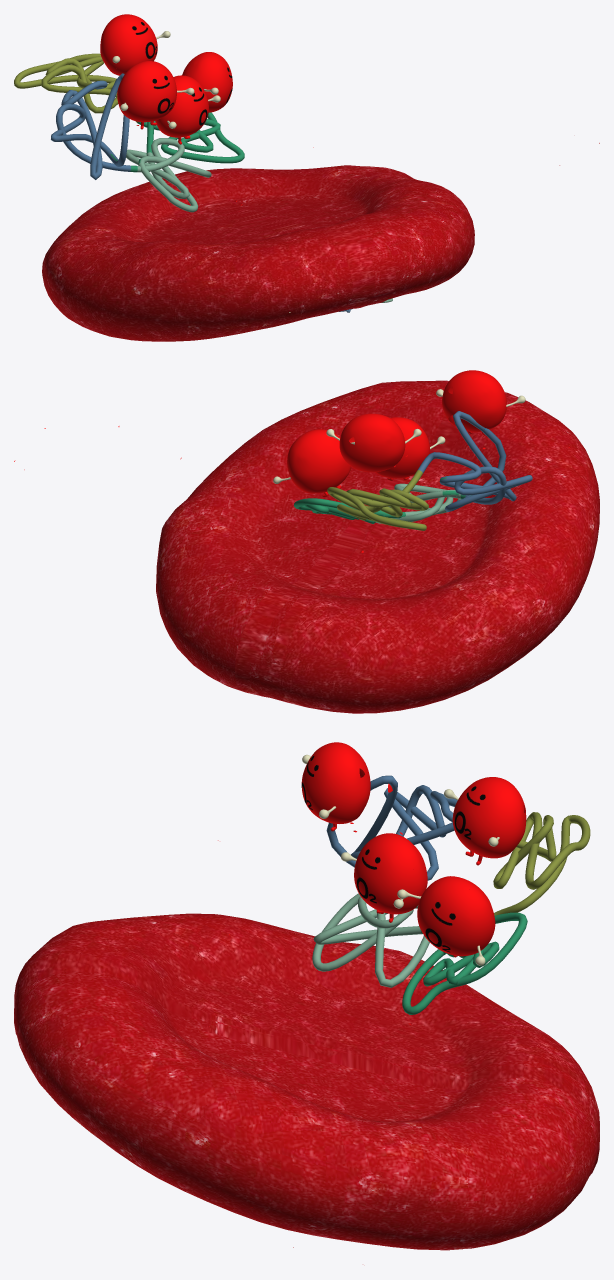
The model's file is platelet.glb.
3 renders of one model, top to bottom at view 1: azimuth 30°, elevation 25°; view 2: azimuth 150°, elevation 25°; view 3: azimuth 270°, elevation 25°, orthographic. The views are drawn at different scales.
Visible parts, largest first — view 1: blood.015_0, blood.001_26, Cube.019_32, Cube.059_72, Cube.075_88, Cube.043_56, Cube.014_29, Cube.015_30; view 2: blood.015_0, blood.001_26, Cube.019_32, Cube.015_30, Cube.060_73, Cube.076_89, Cube.044_57, Cube.075_88; view 3: blood.001_26, blood.015_0, Cube.019_32, Cube.014_29, Cube.075_88, Cube.043_56, Cube.059_72, Cube.060_73, Cube.044_57, Cube.076_89.
Boxes of the visible parts, box(x1,y1,x2,y2) form: blood.015_0: box(42, 171, 396, 341); blood.001_26: box(161, 165, 474, 308); Cube.019_32: box(14, 53, 244, 212); Cube.059_72: box(123, 61, 176, 122); Cube.075_88: box(107, 14, 157, 73); Cube.043_56: box(164, 75, 208, 137); Cube.014_29: box(202, 52, 232, 112); Cube.015_30: box(182, 52, 210, 85); blood.015_0: box(235, 392, 599, 713); blood.001_26: box(156, 380, 448, 697); Cube.019_32: box(293, 411, 532, 530); Cube.015_30: box(288, 430, 351, 493); Cube.060_73: box(442, 373, 505, 432); Cube.076_89: box(339, 421, 405, 472); Cube.044_57: box(375, 421, 429, 478); Cube.075_88: box(340, 413, 405, 443); blood.001_26: box(14, 971, 599, 1250); blood.015_0: box(14, 913, 599, 1175); Cube.019_32: box(312, 775, 590, 1014); Cube.014_29: box(417, 878, 489, 956); Cube.075_88: box(452, 777, 515, 857); Cube.043_56: box(354, 833, 414, 914); Cube.059_72: box(301, 742, 347, 823); Cube.060_73: box(339, 742, 370, 823); Cube.044_57: box(390, 833, 427, 913); Cube.076_89: box(488, 779, 526, 858).
Bounding box in the file's own units: 19.47 × 10.31 × 14.66.
Materials: 11 (4 with a texture image).
